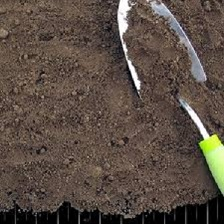loamy_soil: (13, 12, 213, 204)
